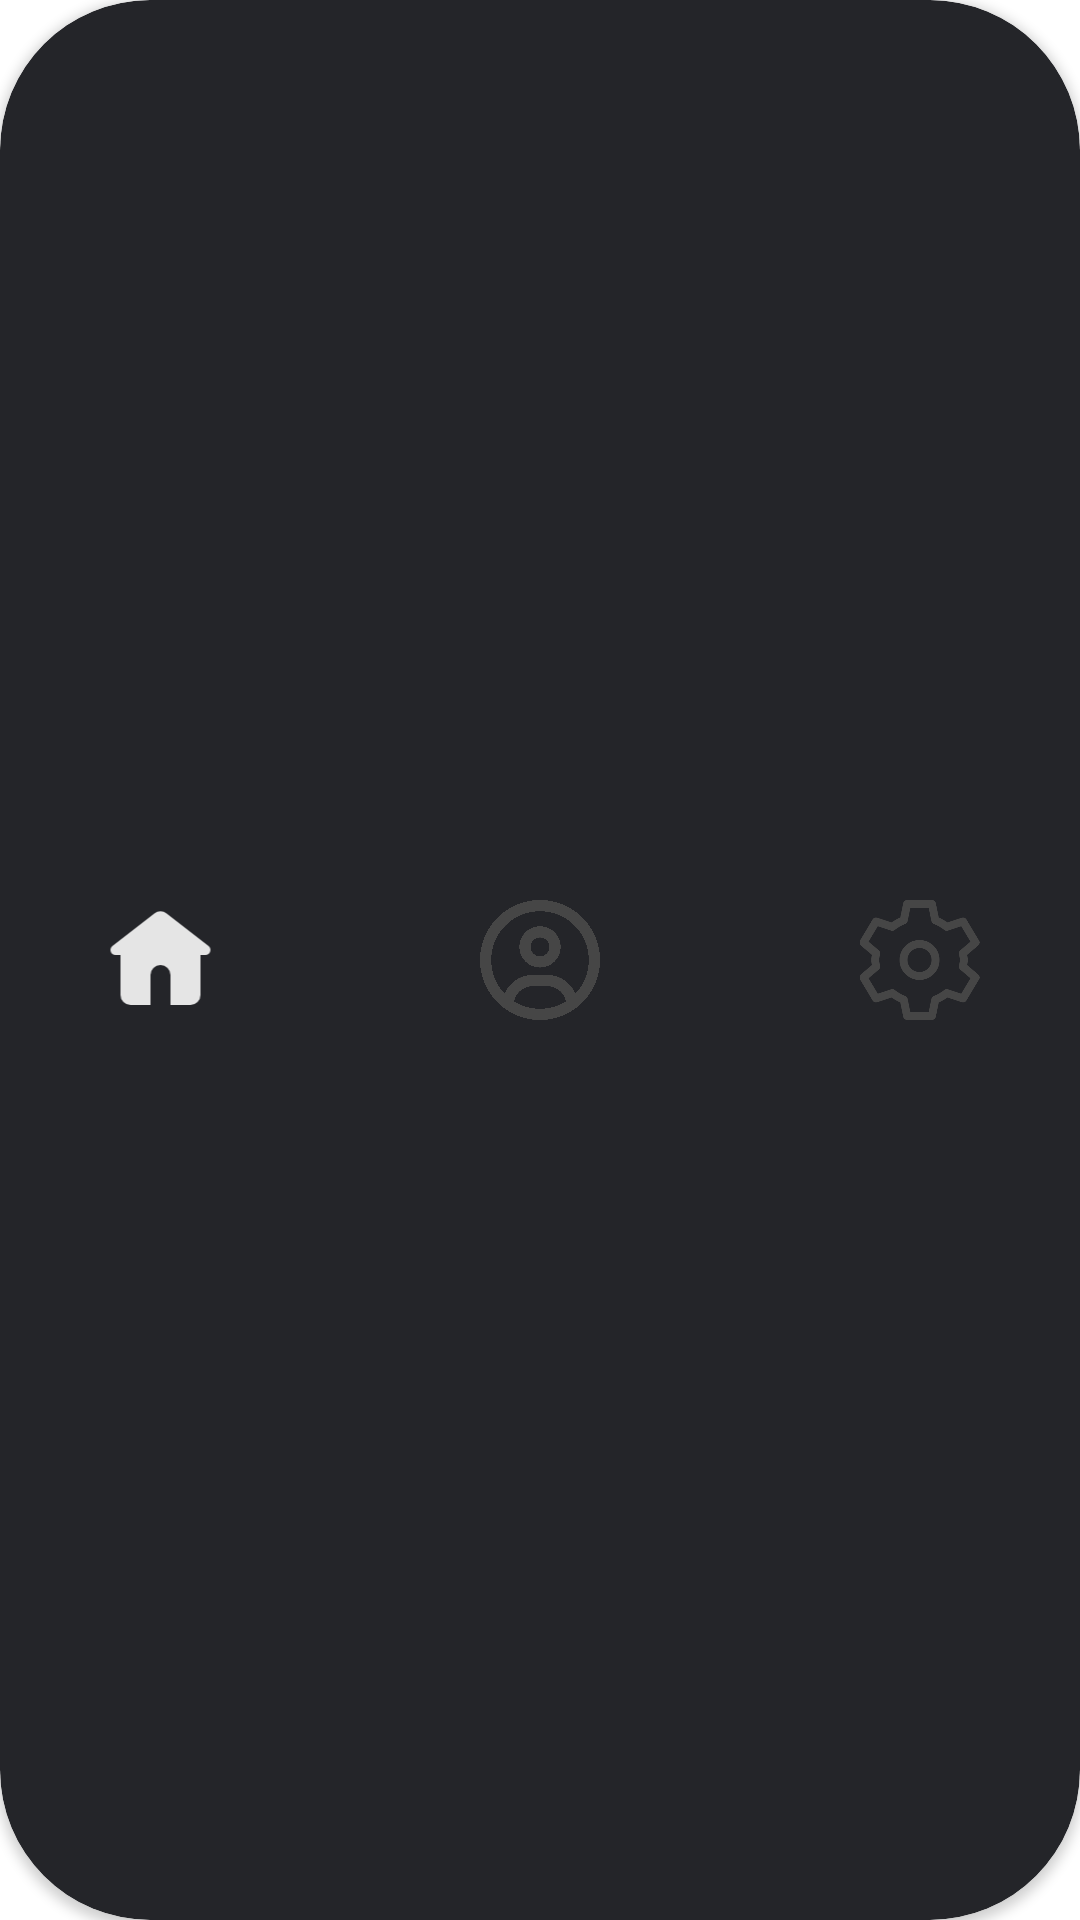

Named icons in this screenshot (1080×1920) and their bounding boxes, (x1, y1, x2, y2):
circle user: (480, 900, 600, 1020)
cog: (860, 900, 980, 1020)
home: (110, 911, 211, 1005)
